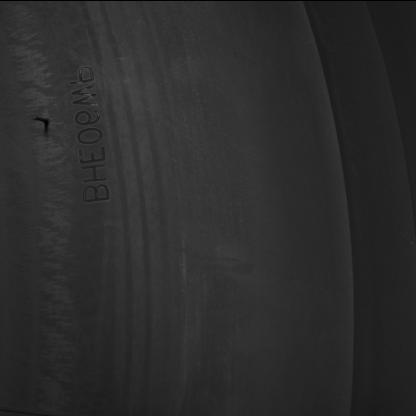ocr: (68, 65, 112, 203)
